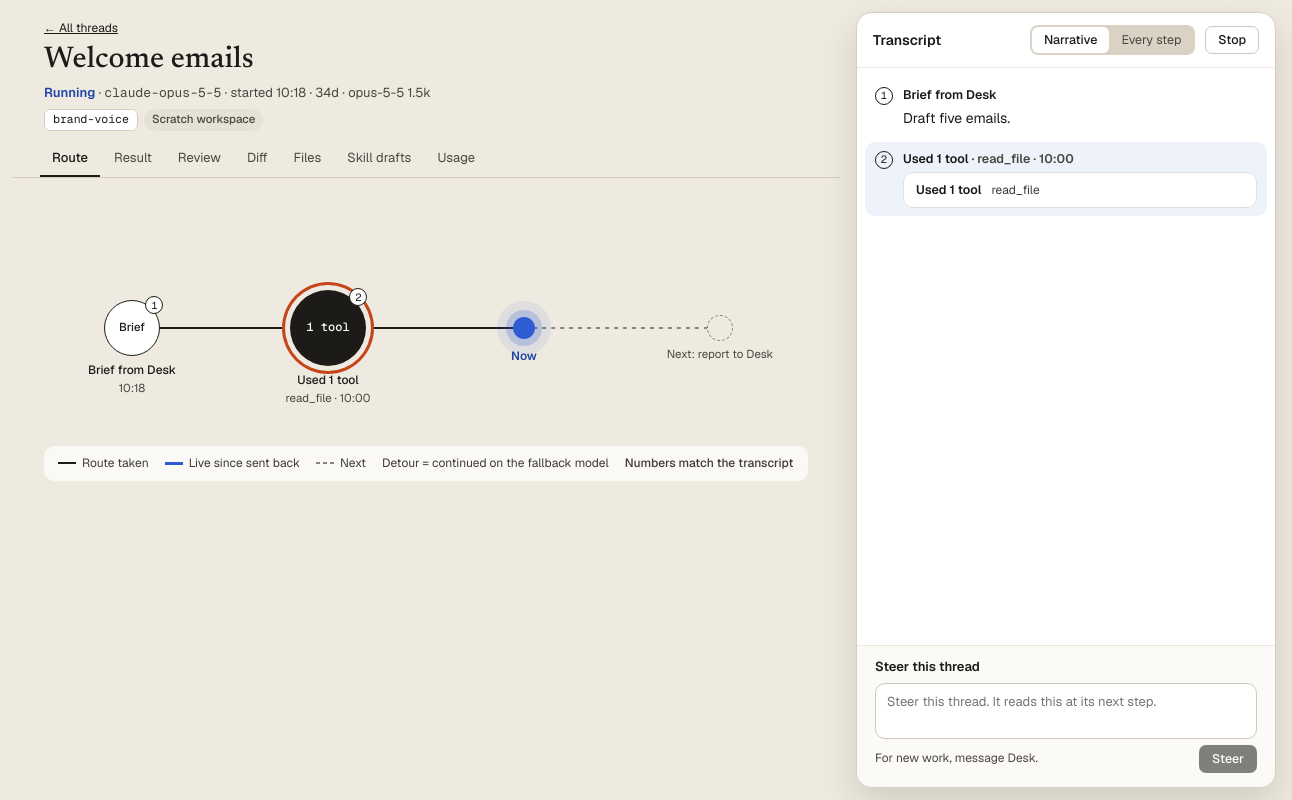
Test: ThreadsScreen › explains scratch threads on Diff and browses Files
The width and height of the screenshot is (1292, 800).
What coordinates should you click on to do the following:
click the tab "Diff"
I would click on:
 (257, 160)
Its box is [235,143,280,177].
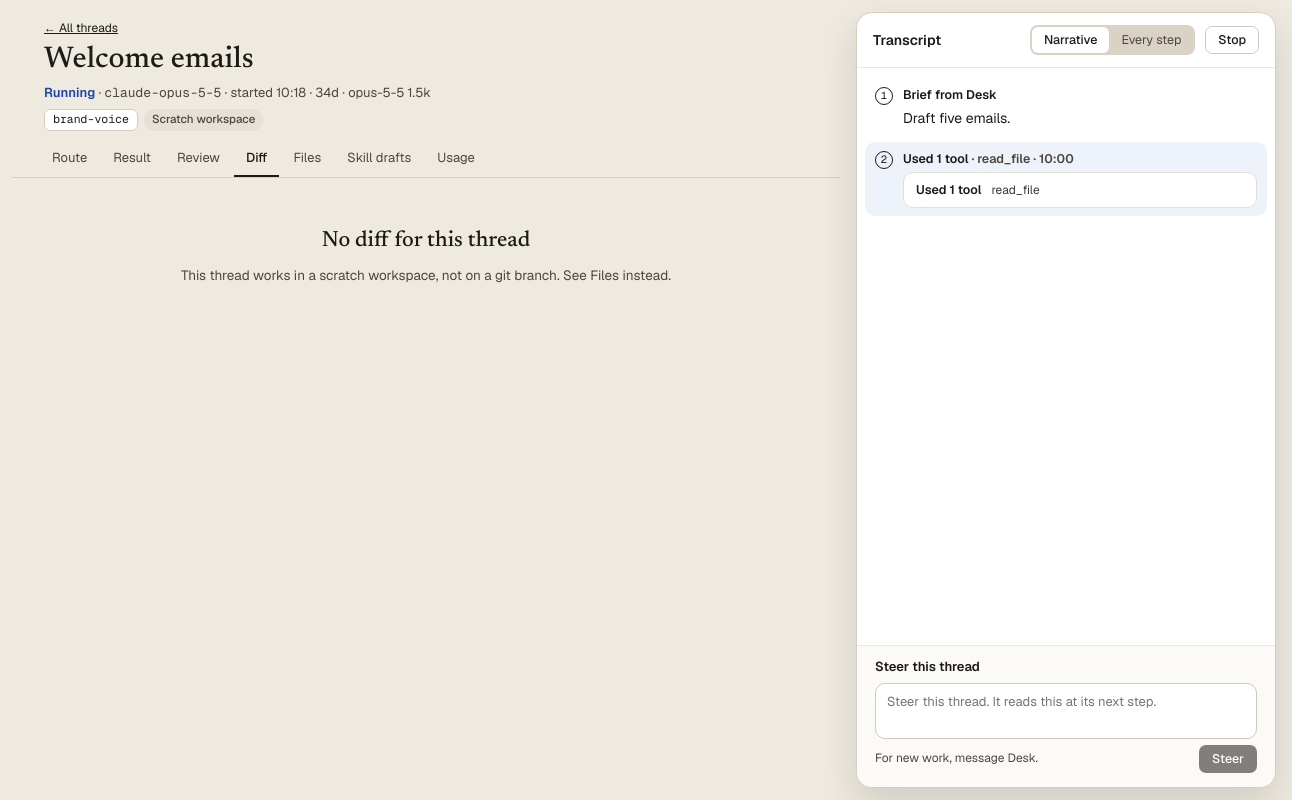
Expected: the heading "No diff for this thread" is shown, [322,226,530,258]
What coordinates should you click on to do the following:
click the tab "Files"
I would click on:
 (307, 160)
Its box is [281,143,333,177].
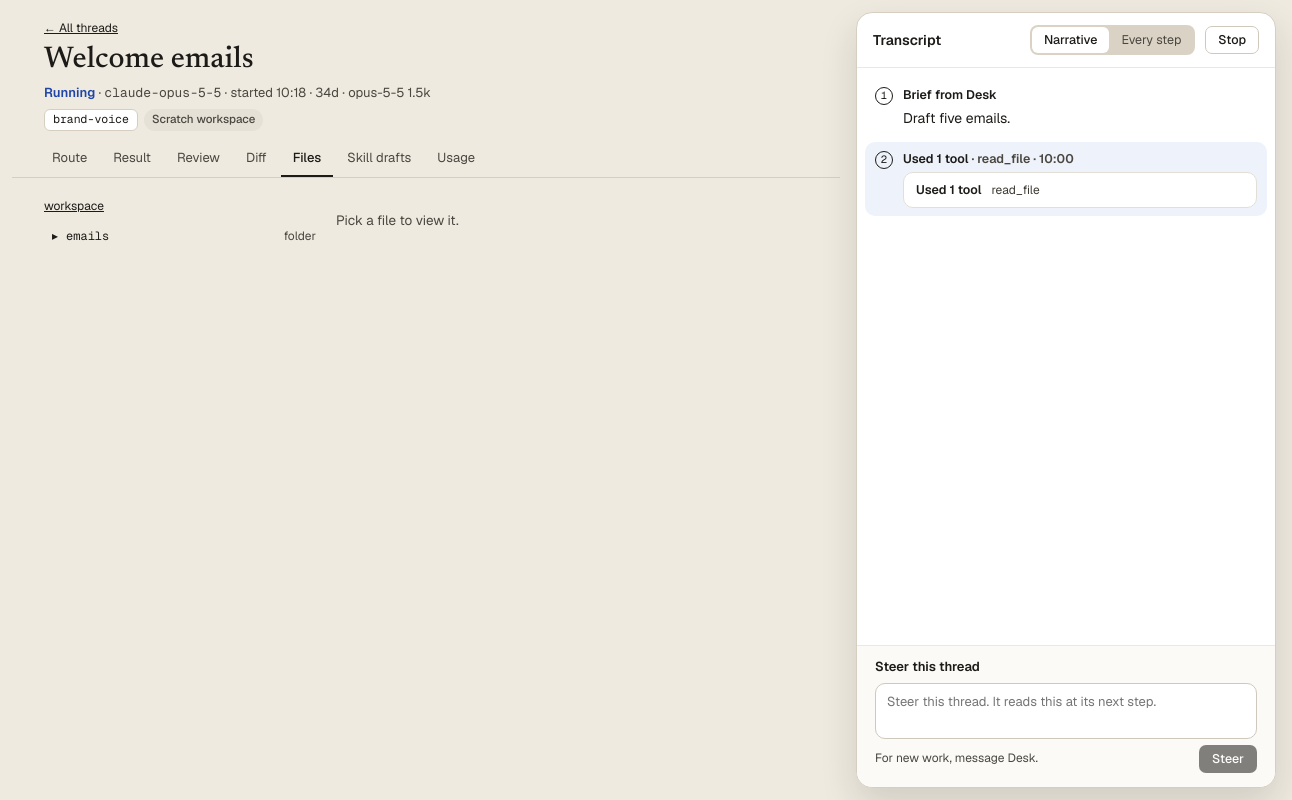
What coordinates should you click on to do the following:
click the button "▸ emails folder"
I would click on:
 (88, 236)
Its box is [44,223,324,250].
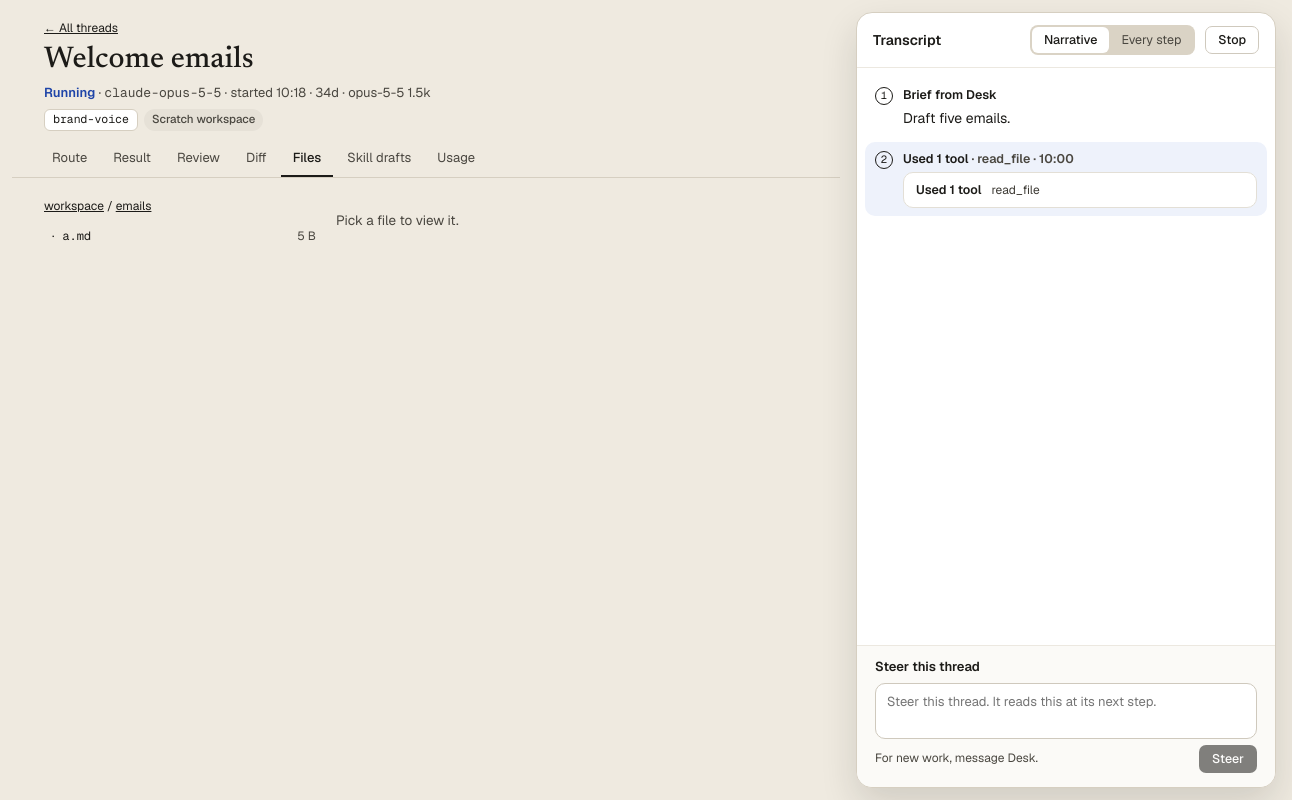
What coordinates should you click on to do the following:
click the button "· a.md 5 B"
I would click on:
 (53, 236)
Its box is [44,223,324,250].
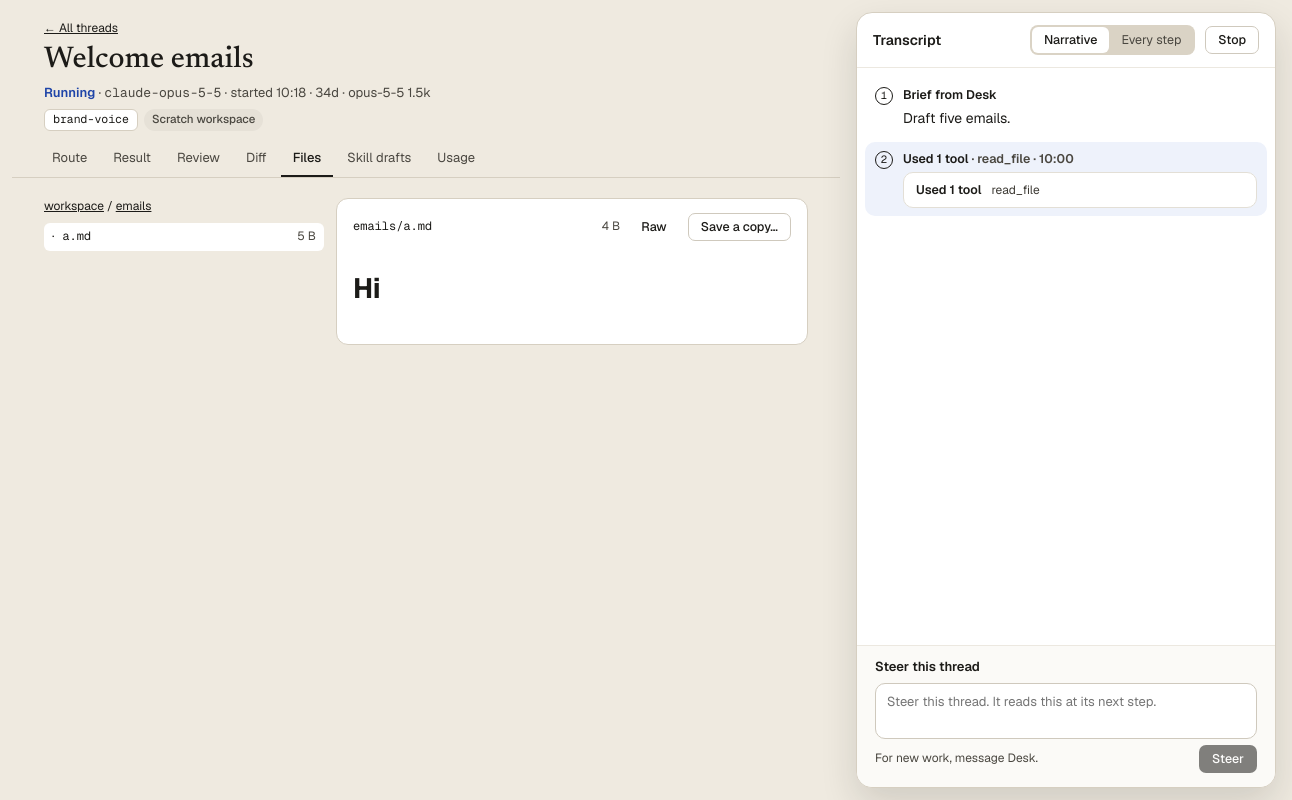
Expected: the heading "Hi" is shown, [353,270,381,306]
Expected: the button "Save a copy…" is shown, [688,213,791,241]
